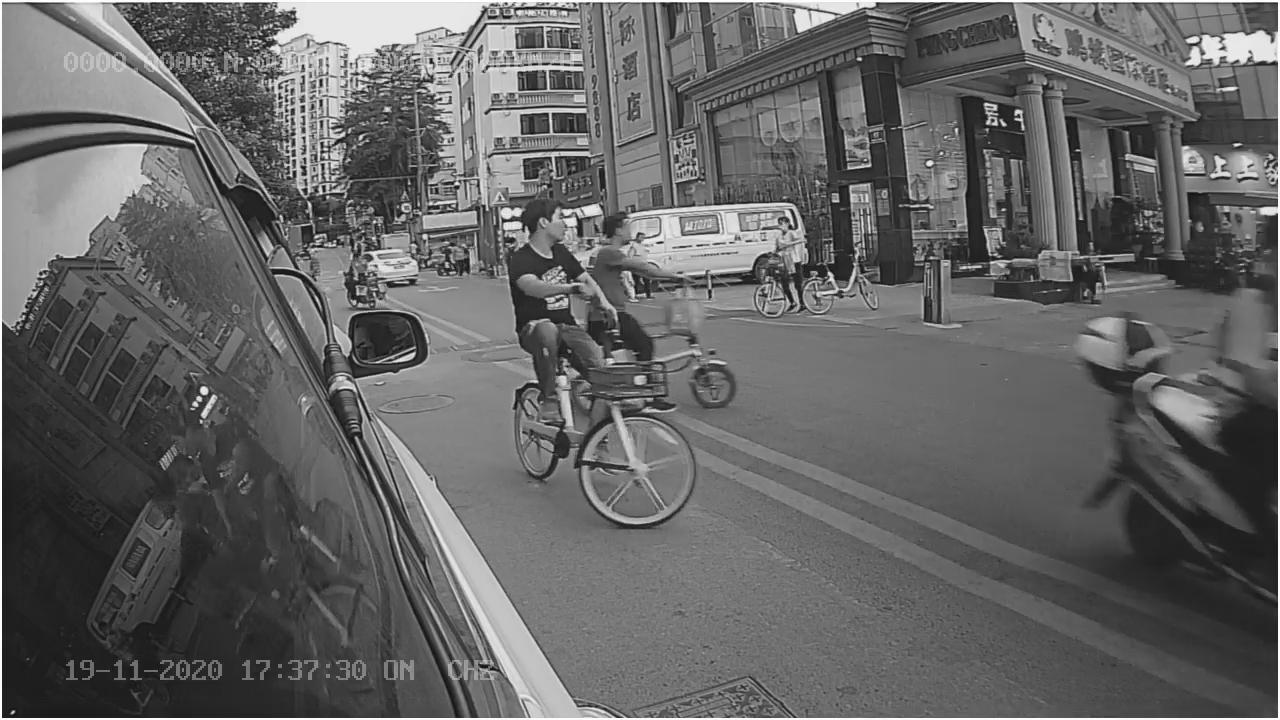person: (503, 191, 591, 328)
